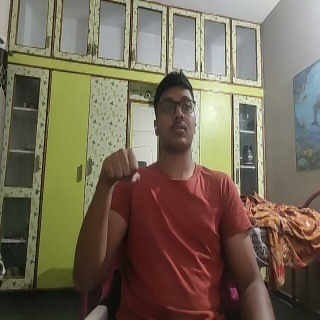Face: (152, 69, 201, 153)
Yes: (99, 147, 143, 193)
